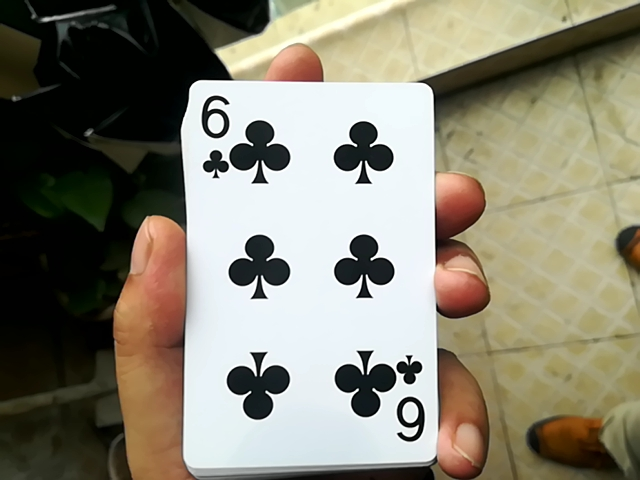mh 6: (168, 77, 444, 470)
